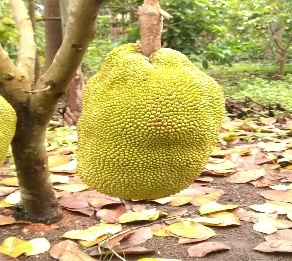Mit: (76, 46, 225, 201)
